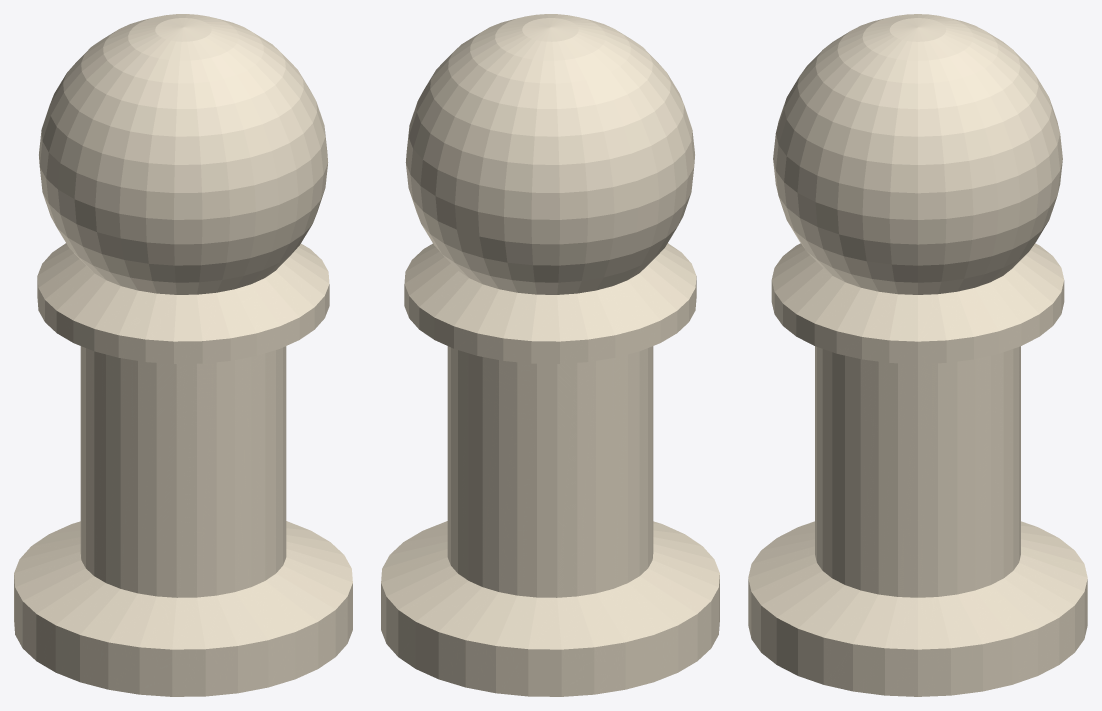
File: bing.obj
The picture shows the model from 3 angles, left to right: view 1: azimuth 30°, elevation 25°; view 2: azimuth 150°, elevation 25°; view 3: azimuth 270°, elevation 25°; orthographic projection.
Visible parts, largest first — view 1: 球体; view 2: 球体; view 3: 球体.
Part boxes in pixels (x1=…): 球体: x1=14, y1=14, x2=352, y2=696; 球体: x1=381, y1=14, x2=719, y2=696; 球体: x1=748, y1=14, x2=1087, y2=696.
Bounding box in the file's own units: 0.3377 × 0.6561 × 0.3377.
